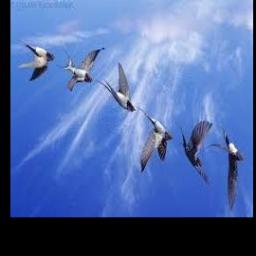Swallow: (210, 128, 244, 210), (135, 105, 173, 173), (179, 120, 212, 185), (59, 46, 104, 92), (96, 64, 136, 112), (18, 40, 54, 81)
